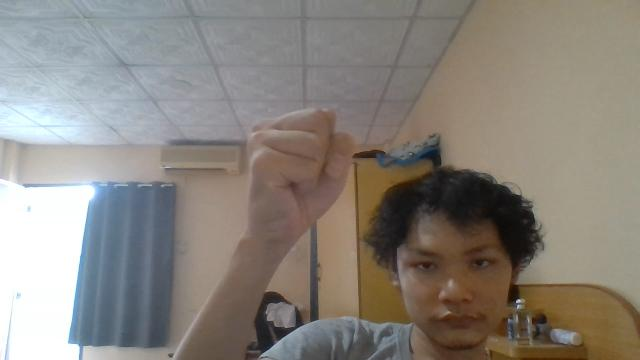forward: (244, 106, 356, 246)
